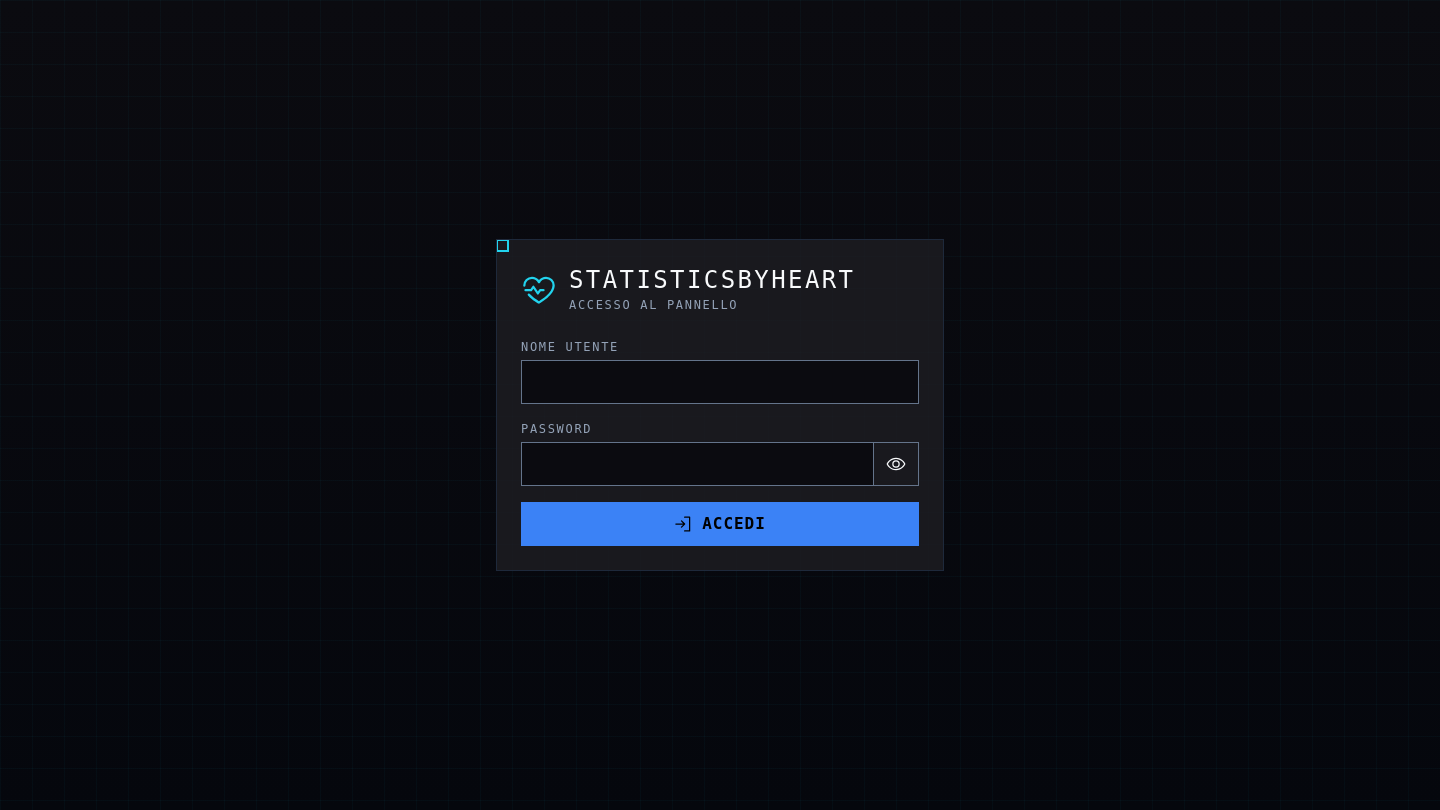
Test: login › announces the lockout with minutes to wait
Step 1. Type "admin" into the field labelled "Nome utente" → {"x": 720, "y": 382}, box [521, 360, 919, 404]
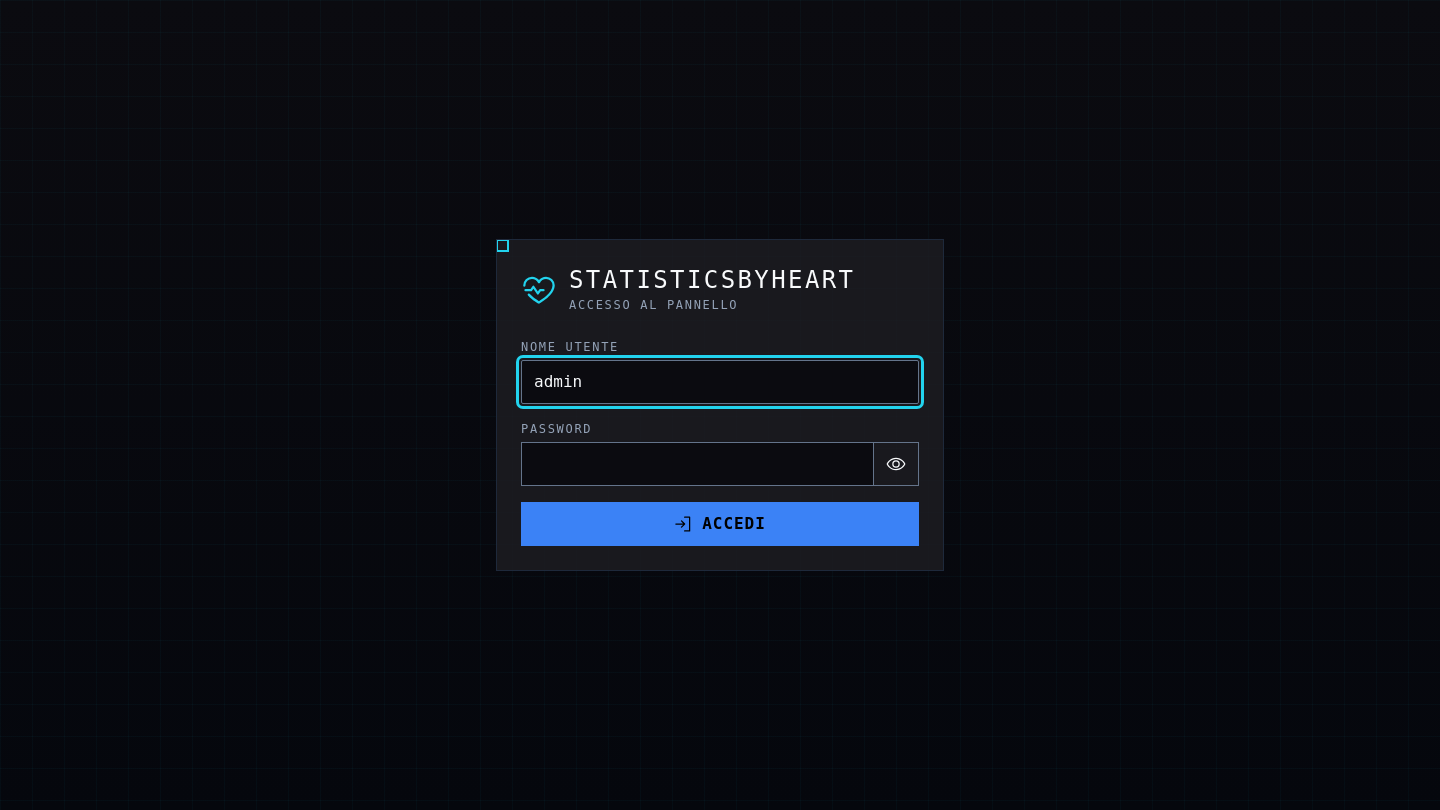
Step 2. Type "x" into the password field labelled "Password" → {"x": 698, "y": 464}, box [521, 442, 874, 486]
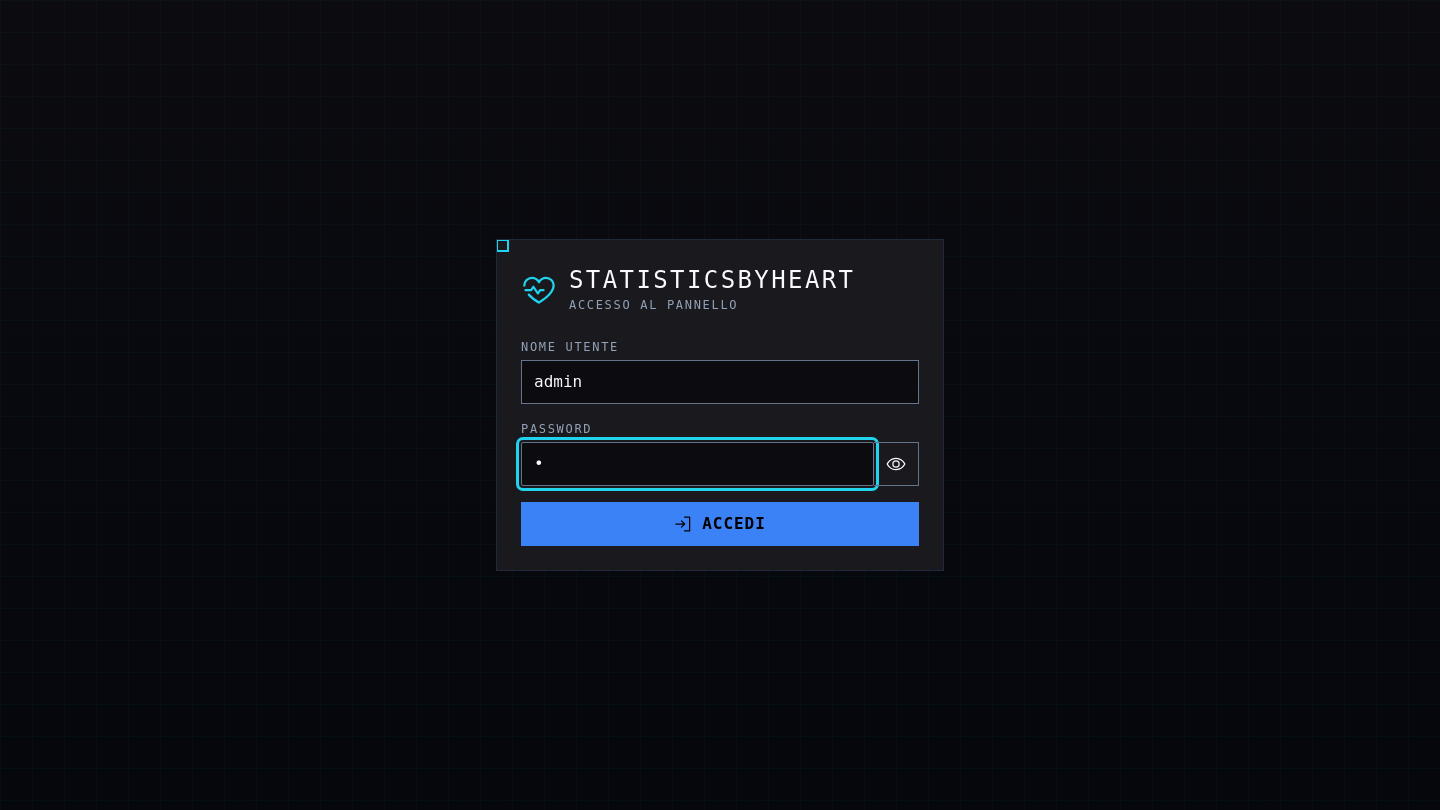
Step 3. Click the button "Accedi" → {"x": 720, "y": 524}, box [521, 502, 919, 546]
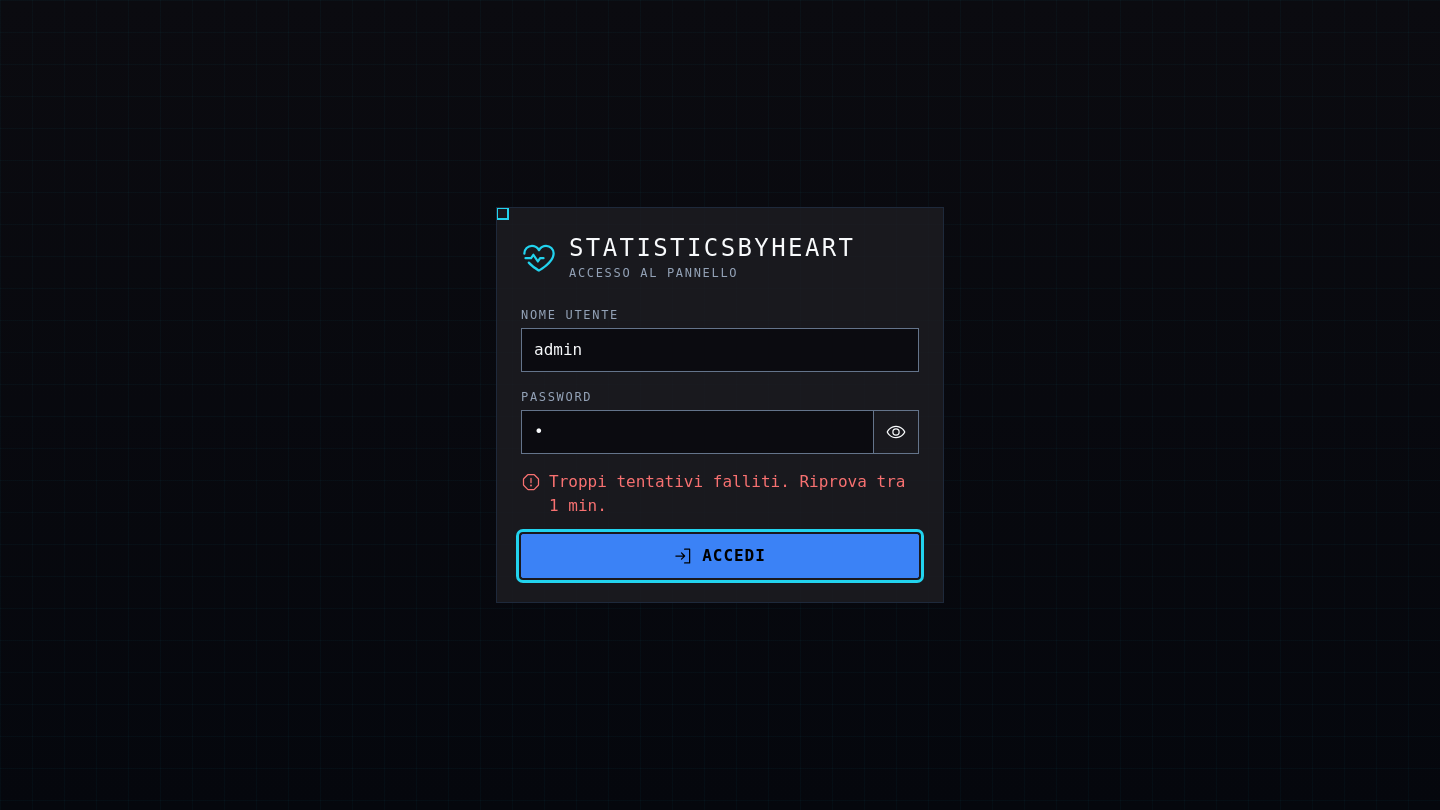
Expected: the message shows "Troppi tentativi", [549, 472, 905, 515]
